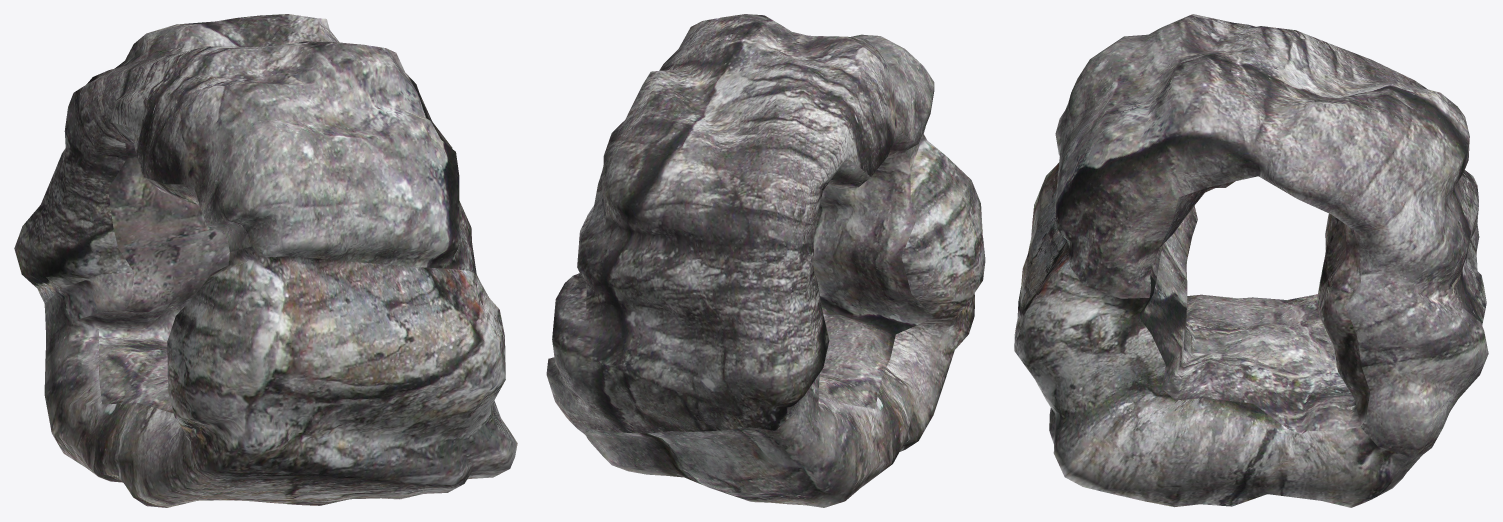
The model's file is Rock 6.FBX.
3 renders of one model, left to right at view 1: azimuth 30°, elevation 25°; view 2: azimuth 150°, elevation 25°; view 3: azimuth 270°, elevation 25°, orthographic. The views are drawn at different scales.
Parts seen in each view (by area): view 1: RockMesh; view 2: RockMesh; view 3: RockMesh.
Part boxes in pixels (left/top/right/bottom): RockMesh: left=14, top=14, right=517, bottom=507; RockMesh: left=546, top=14, right=985, bottom=507; RockMesh: left=1014, top=14, right=1488, bottom=507.
Size of the model in its own units: 275 by 383 by 381.
1 material, 1 textured.
